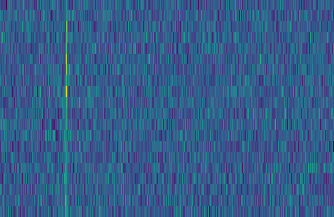signal: (59, 0, 69, 217)
